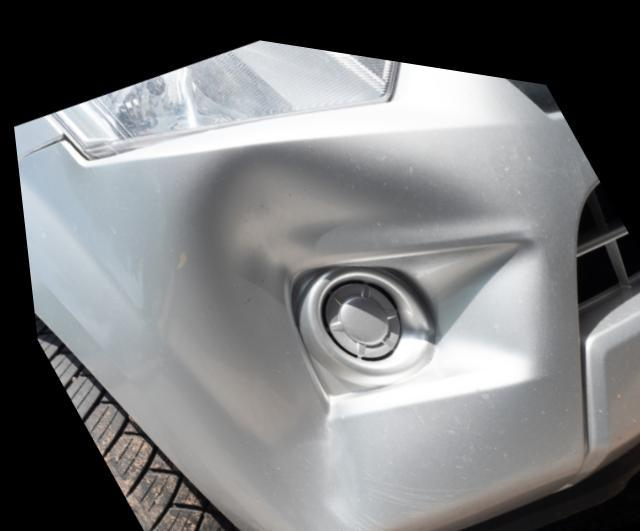dent: (201, 143, 405, 531)
scratch: (337, 453, 470, 531)
